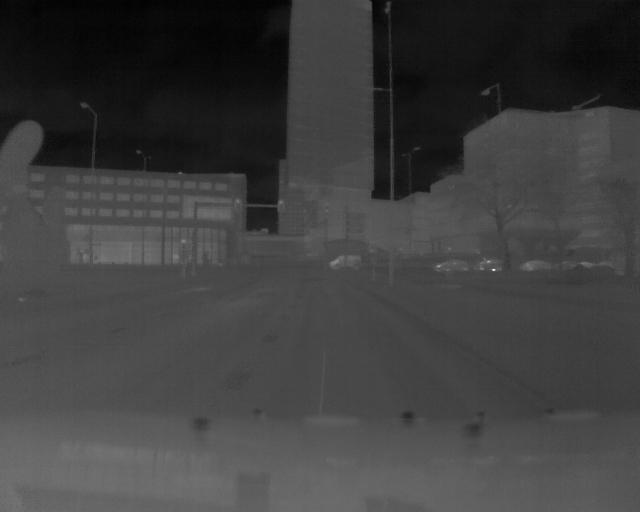car: (329, 252, 363, 270), (432, 258, 470, 273)
